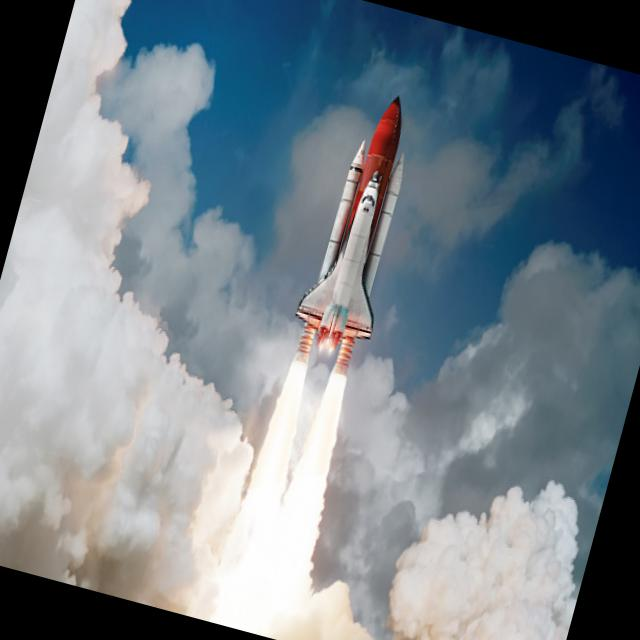rocket: (251, 83, 435, 518)
